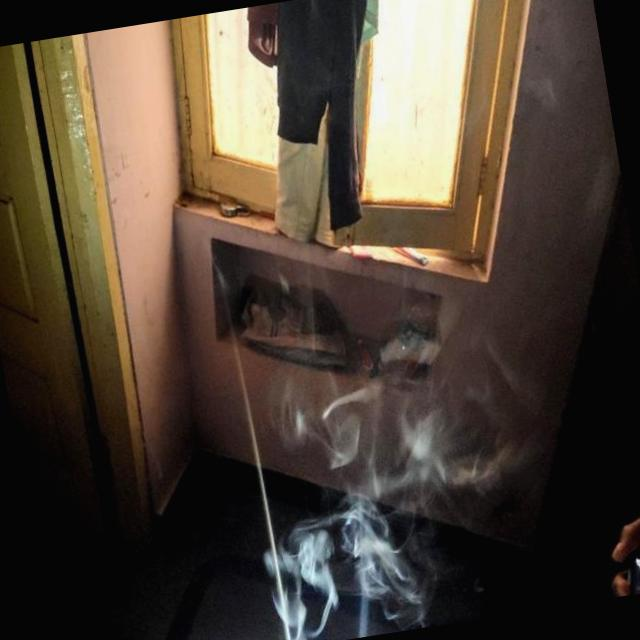smoke: (222, 278, 533, 640)
